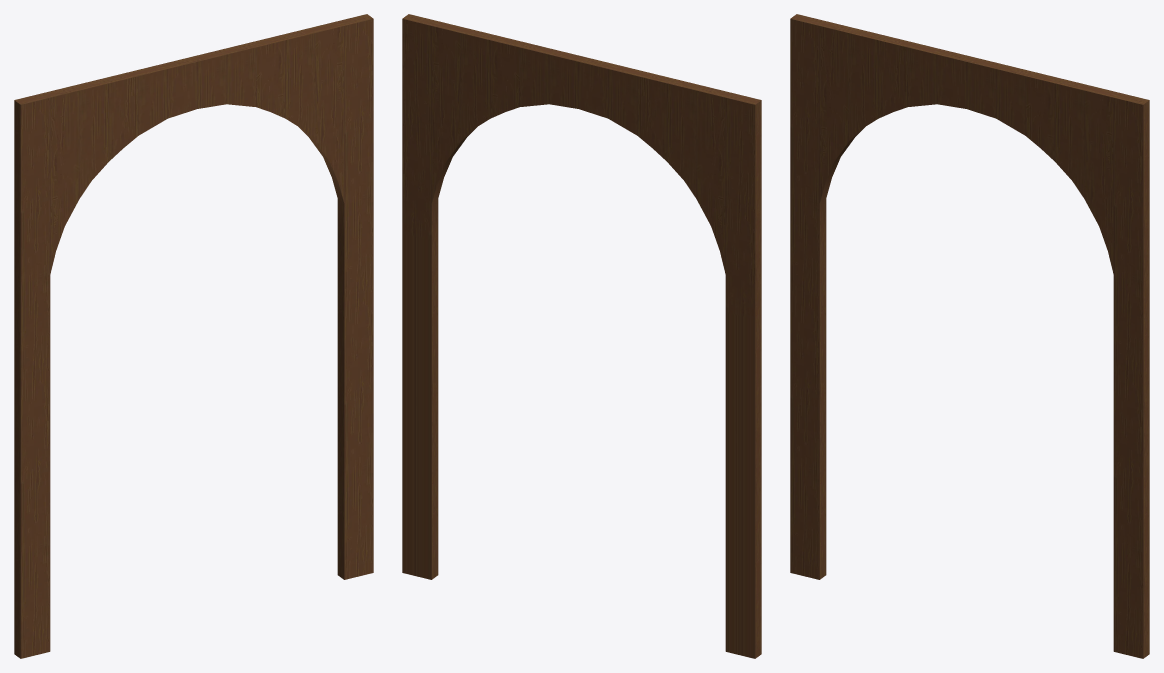
Rendered from mv_arch.glb.
The picture shows the model from 3 angles, left to right: view 1: azimuth 30°, elevation 25°; view 2: azimuth 150°, elevation 25°; view 3: azimuth 330°, elevation 25°; orthographic projection.
Visible parts, largest first — view 1: Wall_Arch; view 2: Wall_Arch; view 3: Wall_Arch.
Part boxes in pixels (left/top/right/bottom): Wall_Arch: left=14, top=14, right=373, bottom=658; Wall_Arch: left=402, top=14, right=761, bottom=658; Wall_Arch: left=790, top=14, right=1149, bottom=658.
Bounding box in the file's own units: 2 × 3 × 0.0641.
Materials: 1 (1 with a texture image).
